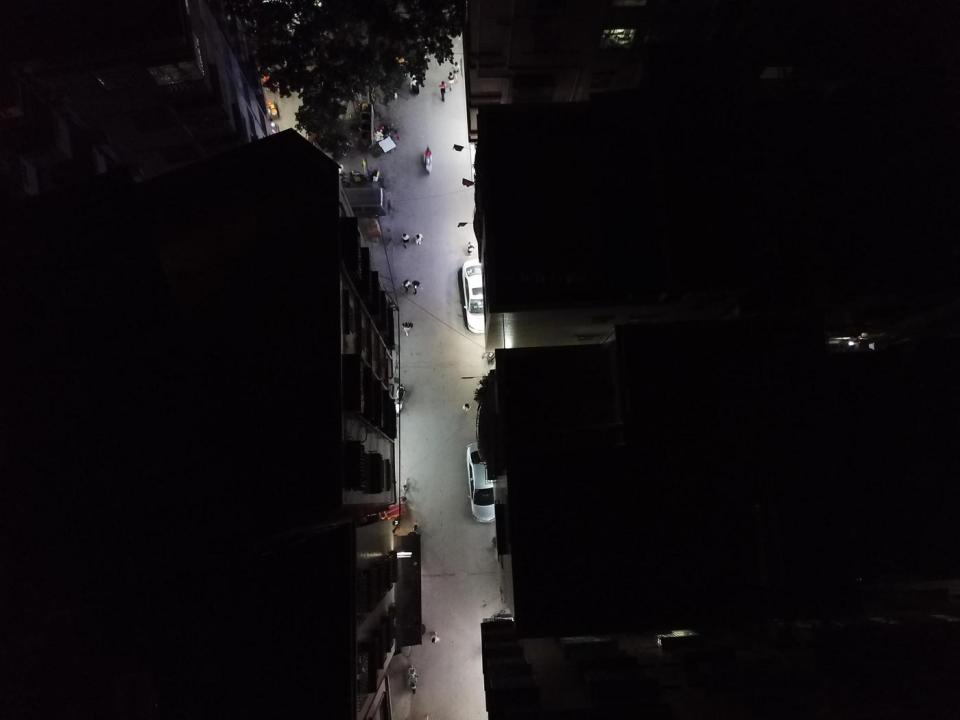car: (466, 441, 501, 522), (462, 258, 494, 334)
